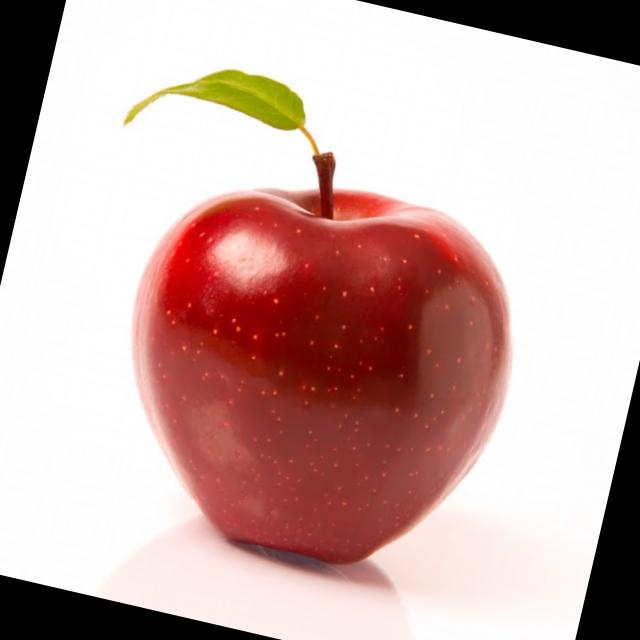apple: (71, 142, 550, 618)
